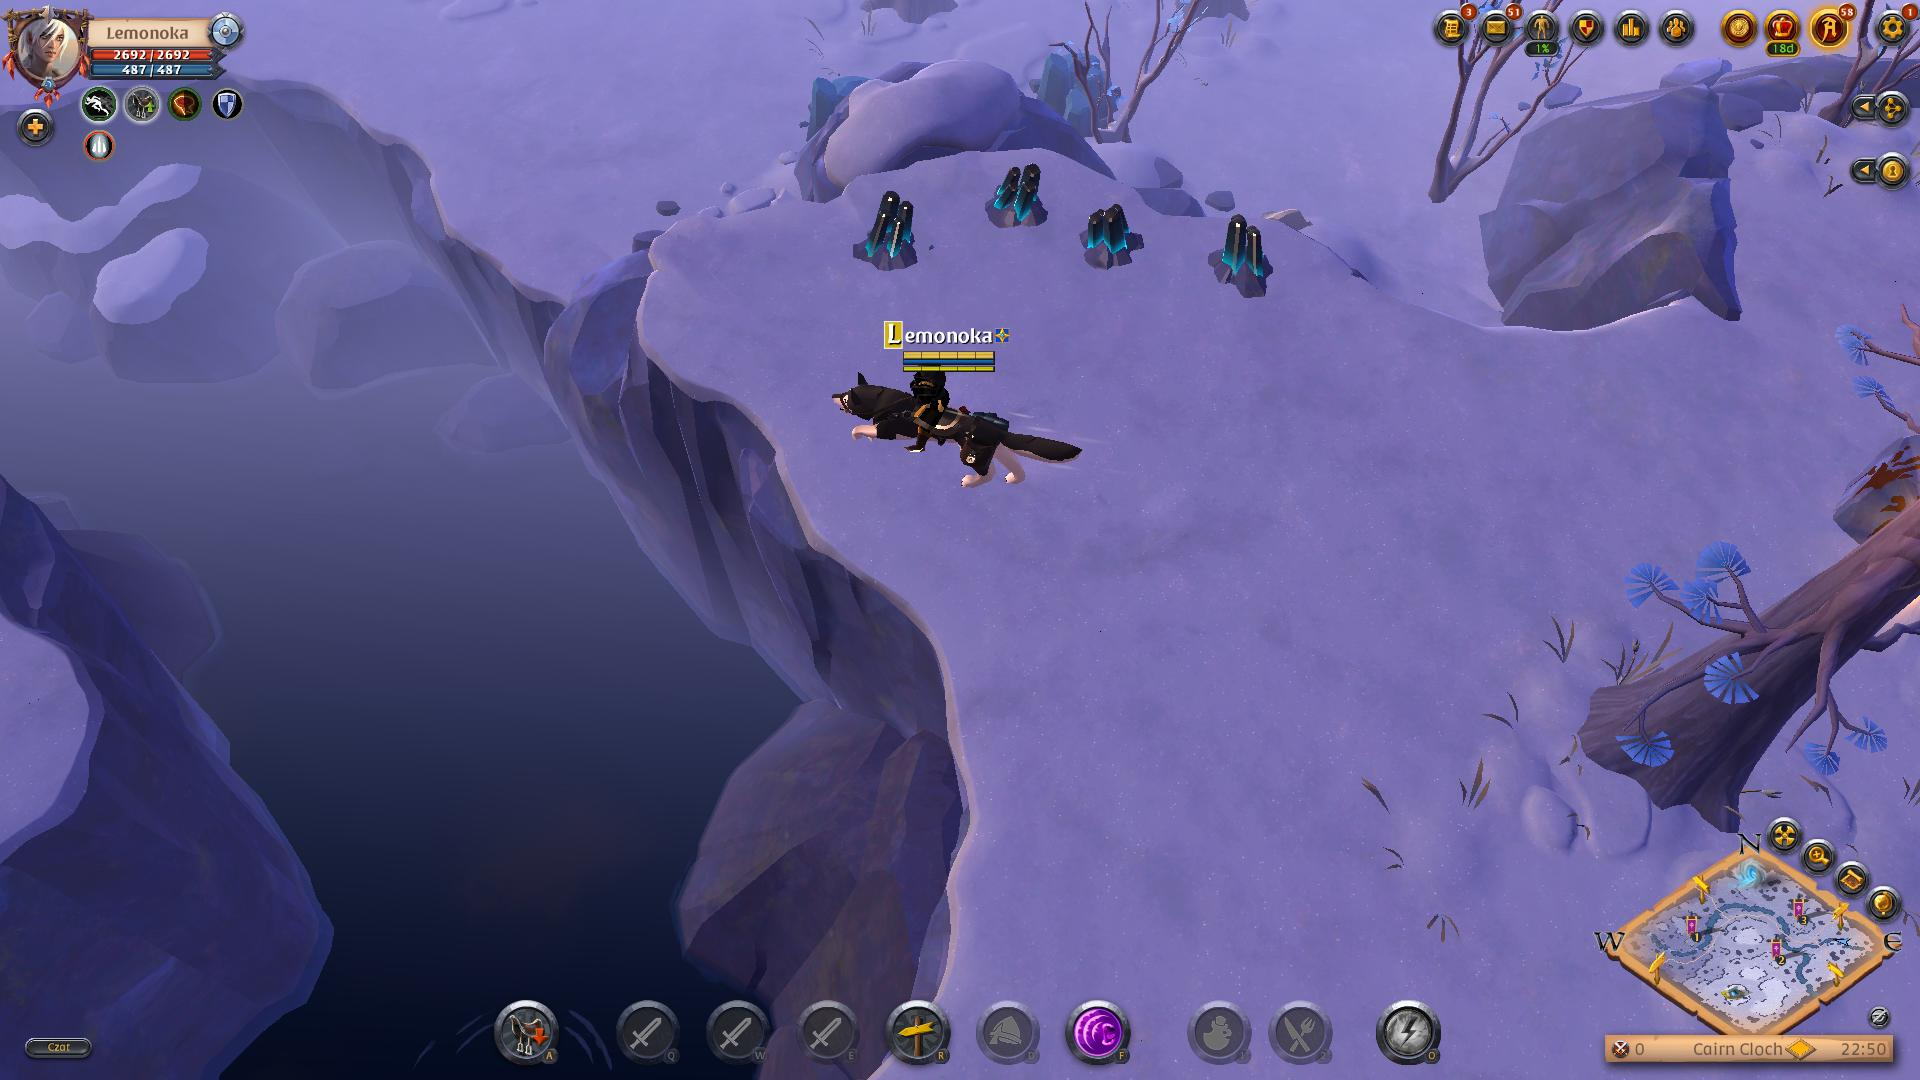ore tier 4: (1208, 210, 1283, 313), (849, 187, 924, 282), (1081, 203, 1153, 276), (981, 165, 1044, 235)
